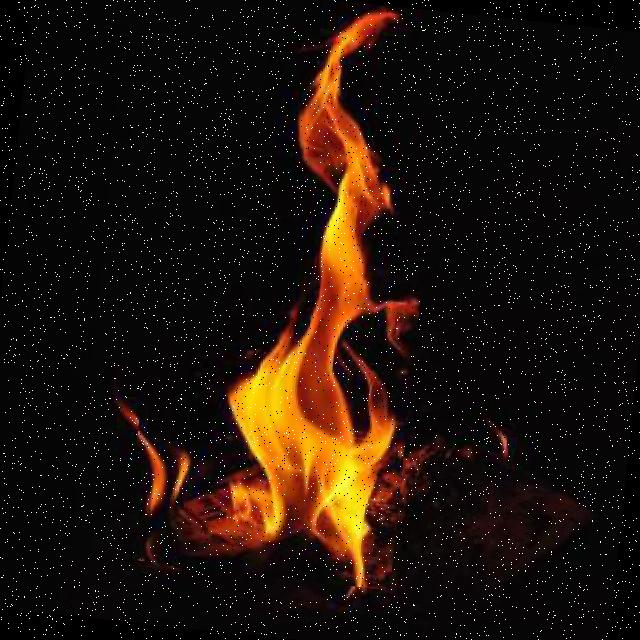fire: (124, 0, 450, 590)
